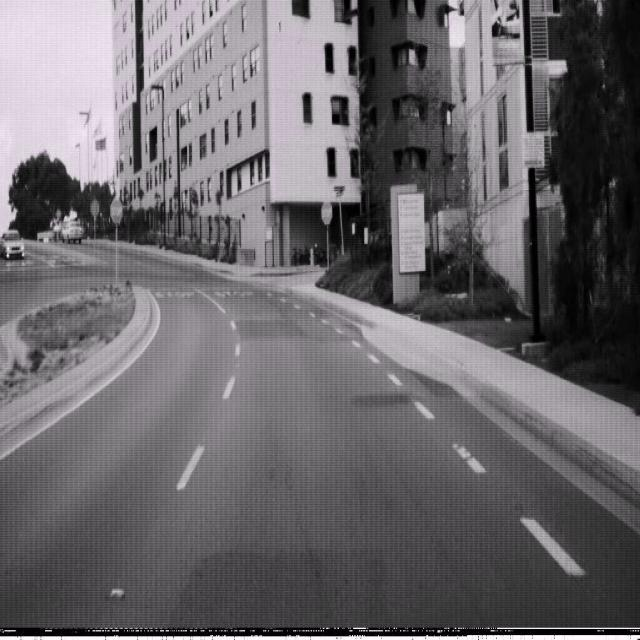stop_sign: (109, 197, 123, 224), (321, 198, 332, 226)
